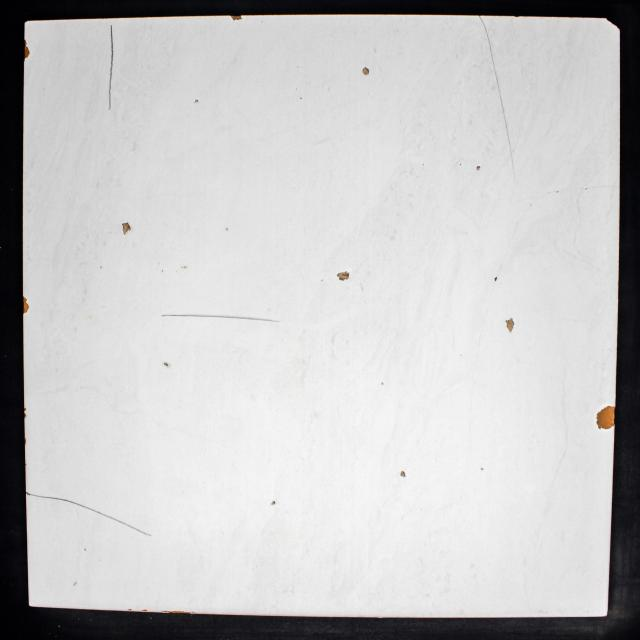edge-chipping: (595, 405, 616, 430), (606, 18, 620, 30), (24, 39, 31, 62), (22, 296, 30, 315), (161, 610, 196, 614), (230, 15, 243, 21)
hole: (336, 270, 350, 282), (505, 317, 515, 333), (121, 222, 132, 236), (362, 66, 370, 76), (400, 470, 406, 478), (270, 500, 276, 506), (476, 165, 481, 171), (163, 362, 169, 367), (193, 99, 199, 104), (494, 276, 498, 282), (381, 382, 385, 386)
line: (161, 314, 279, 322), (112, 518, 152, 537), (479, 15, 493, 58), (73, 502, 110, 518), (26, 492, 71, 503), (109, 24, 114, 110), (493, 60, 502, 102), (501, 102, 510, 140), (509, 141, 516, 178)
